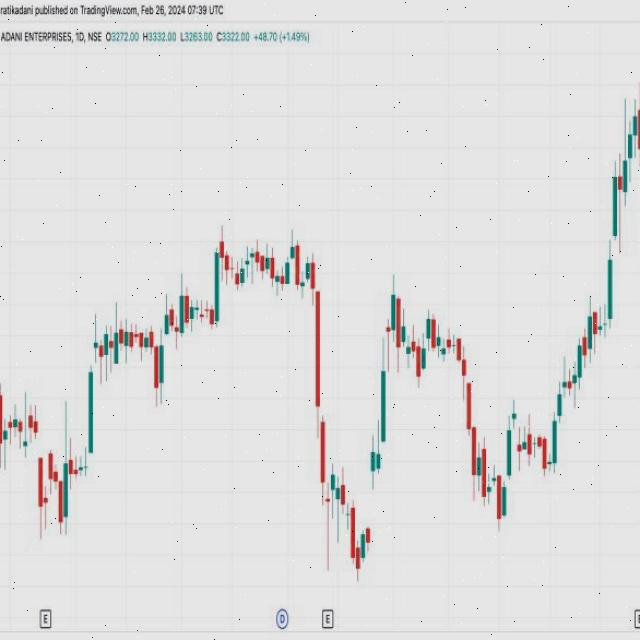GAP DOWN: (30, 400, 49, 552)
GAP UP: (365, 441, 377, 559)
